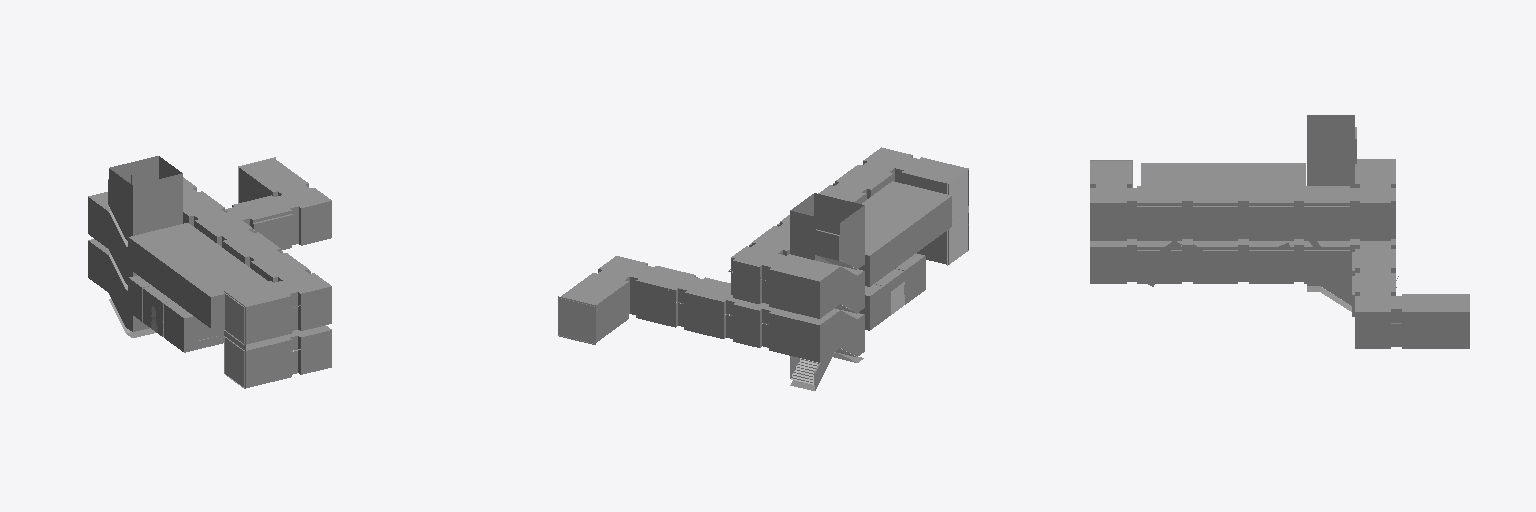
3 renders of one model, left to right at view 1: azimuth 30°, elevation 25°; view 2: azimuth 150°, elevation 25°; view 3: azimuth 270°, elevation 25°, orthographic.
Parts seen in each view (by area): view 1: floor2_Plane.001, floor3_Plane.008, library_Plane.011, stairs_Plane.003, Plane, block_Plane.009; view 2: floor2_Plane.001, floor3_Plane.008, stairs_Plane.003, library_Plane.011, Plane, block.001_Plane.010, block_Plane.009; view 3: floor2_Plane.001, floor3_Plane.008, stairs_Plane.003, library_Plane.011, Plane.004.
Part boxes in pixels (bbox=[...]): floor2_Plane.001: bbox=[88, 159, 331, 388]; floor3_Plane.008: bbox=[88, 177, 331, 344]; library_Plane.011: bbox=[128, 223, 268, 327]; stairs_Plane.003: bbox=[108, 156, 182, 337]; Plane: bbox=[128, 275, 223, 352]; block_Plane.009: bbox=[224, 291, 245, 388]; floor2_Plane.001: bbox=[559, 212, 968, 362]; floor3_Plane.008: bbox=[728, 147, 968, 318]; stairs_Plane.003: bbox=[790, 193, 864, 390]; library_Plane.011: bbox=[859, 181, 951, 286]; Plane: bbox=[859, 253, 925, 330]; block.001_Plane.010: bbox=[558, 296, 595, 344]; block_Plane.009: bbox=[947, 168, 968, 265]; floor2_Plane.001: bbox=[1090, 239, 1469, 348]; floor3_Plane.008: bbox=[1090, 159, 1395, 240]; stairs_Plane.003: bbox=[1307, 115, 1356, 311]; library_Plane.011: bbox=[1141, 163, 1305, 187]; Plane.004: bbox=[1131, 238, 1351, 286].
Size of the model in its own units: 19.21 by 14 by 27.64.